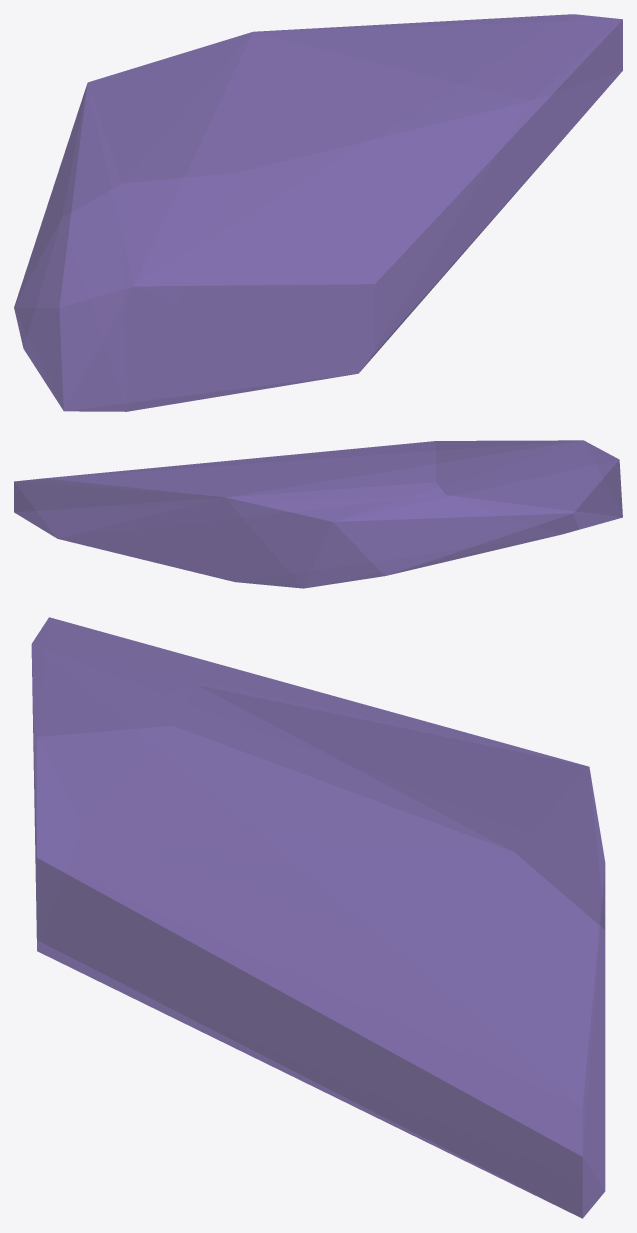
The picture shows the model from 3 angles, top to bottom: view 1: azimuth 30°, elevation 25°; view 2: azimuth 150°, elevation 25°; view 3: azimuth 270°, elevation 25°; orthographic projection. The views are drawn at different scales.
Parts seen in each view (by area): view 1: Shape_IndexedFaceSet.012_Shape_IndexedFaceSet.2973; view 2: Shape_IndexedFaceSet.012_Shape_IndexedFaceSet.2973; view 3: Shape_IndexedFaceSet.012_Shape_IndexedFaceSet.2973.
Part boxes in pixels (x1,y1,x2,y2): Shape_IndexedFaceSet.012_Shape_IndexedFaceSet.2973: (14, 14, 622, 411); Shape_IndexedFaceSet.012_Shape_IndexedFaceSet.2973: (14, 440, 622, 588); Shape_IndexedFaceSet.012_Shape_IndexedFaceSet.2973: (31, 617, 605, 1218).
Size of the model in its own units: 0.1122 by 0.0197 by 0.059.
